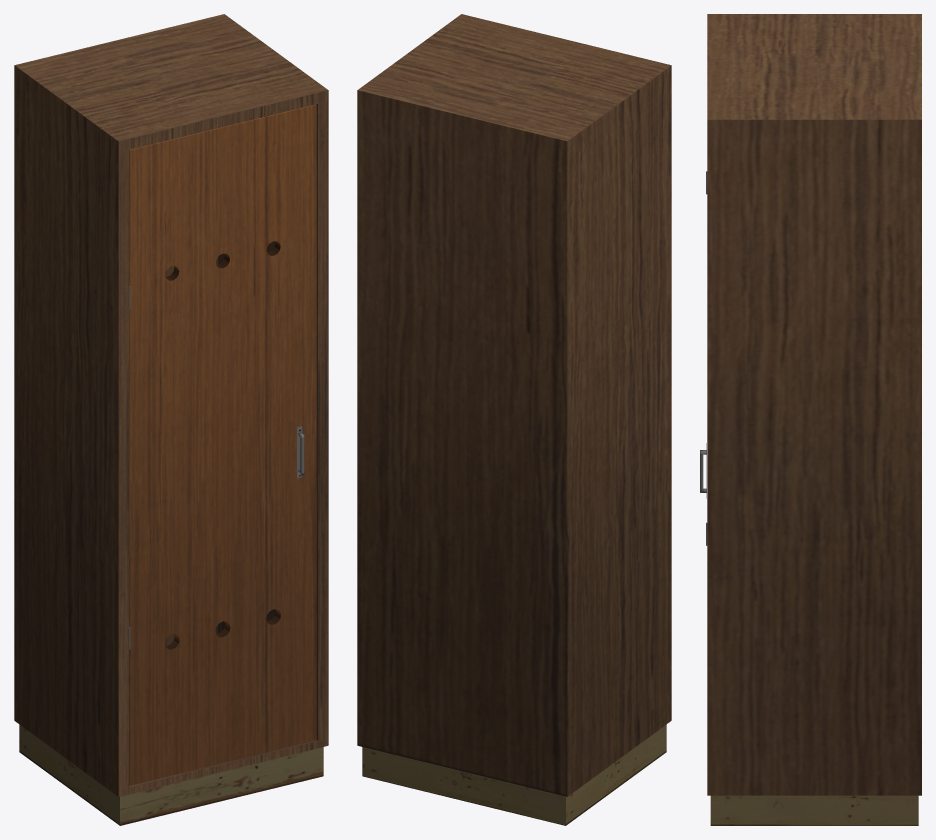
File: clean_tool_box.fbx
The picture shows the model from 3 angles, left to right: view 1: azimuth 30°, elevation 25°; view 2: azimuth 150°, elevation 25°; view 3: azimuth 270°, elevation 25°; orthographic projection. The views are drawn at different scales.
Parts seen in each view (by area): view 1: tobira, wood_box; view 2: wood_box; view 3: wood_box.
Boxes of the visible parts, x1,y1,x2,y2 form: tobira: [129, 104, 316, 785]; wood_box: [14, 14, 328, 825]; wood_box: [357, 14, 671, 825]; wood_box: [707, 14, 921, 825].
Size of the model in its own units: 60 by 187 by 53.27.
3 materials, 3 textured.
